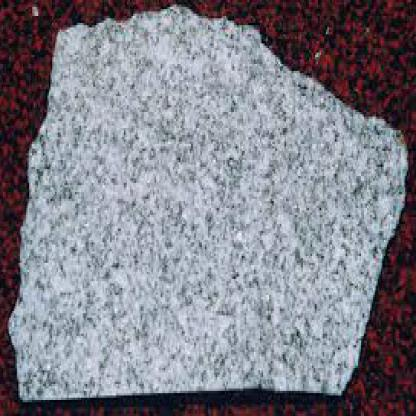Metamorphic_Quartize: (1, 7, 412, 414)
